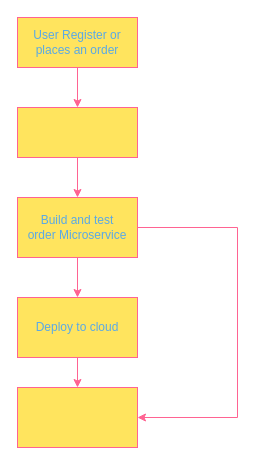
Some shapes in this 263 by 465 pixel diagram are drawn without their labels. The shapes that lost their labels are listed below. From the top down, each one's centre as x and y in pixels, then its label:
At (x=77, y=132): "code changes for order service".
At (x=77, y=417): "operate with order received and delivery assigined".
